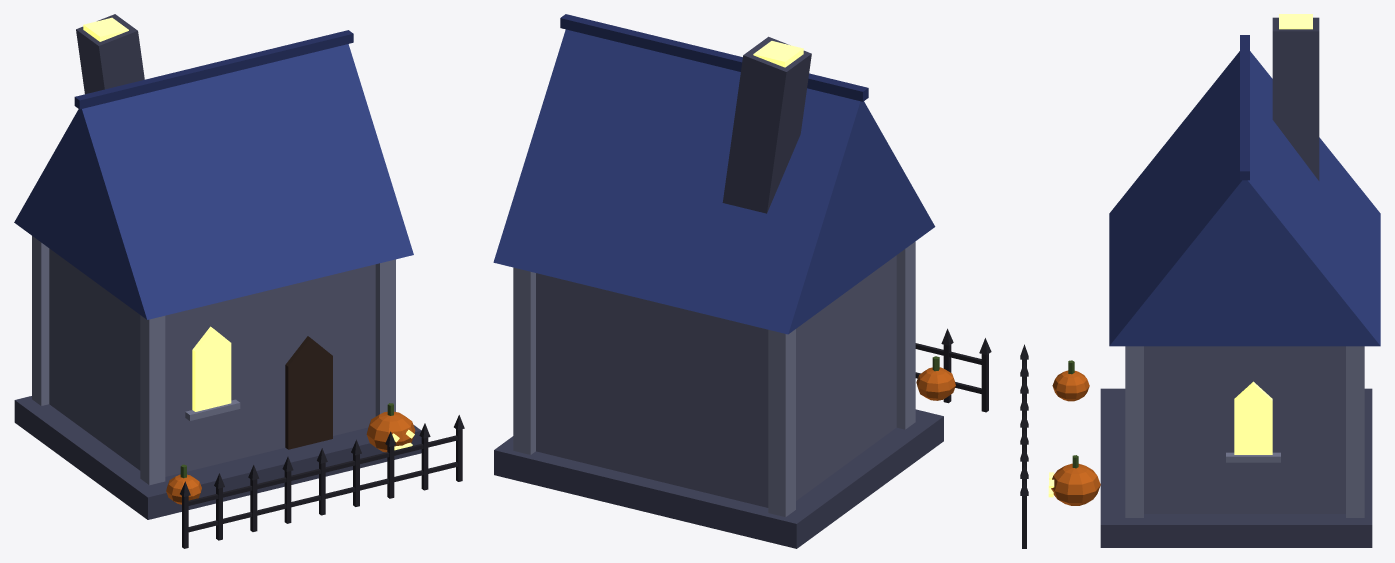
Rendered from ec2-crooked-cottage.glb.
The picture shows the model from 3 angles, left to right: view 1: azimuth 30°, elevation 25°; view 2: azimuth 150°, elevation 25°; view 3: azimuth 270°, elevation 25°; orthographic projection. The views are drawn at different scales.
Parts seen in each view (by area): view 1: cw_paint, cw_glow; view 2: cw_paint, cw_glow; view 3: cw_paint, cw_glow.
Part boxes in pixels (x1,y1,x2,y2): cw_paint: [14, 14, 464, 548]; cw_glow: [83, 17, 414, 450]; cw_paint: [493, 14, 991, 548]; cw_glow: [753, 41, 803, 67]; cw_paint: [1020, 17, 1380, 548]; cw_glow: [1048, 14, 1312, 497].
Bounding box in the file's own units: 3.9 × 5.43 × 4.25.
